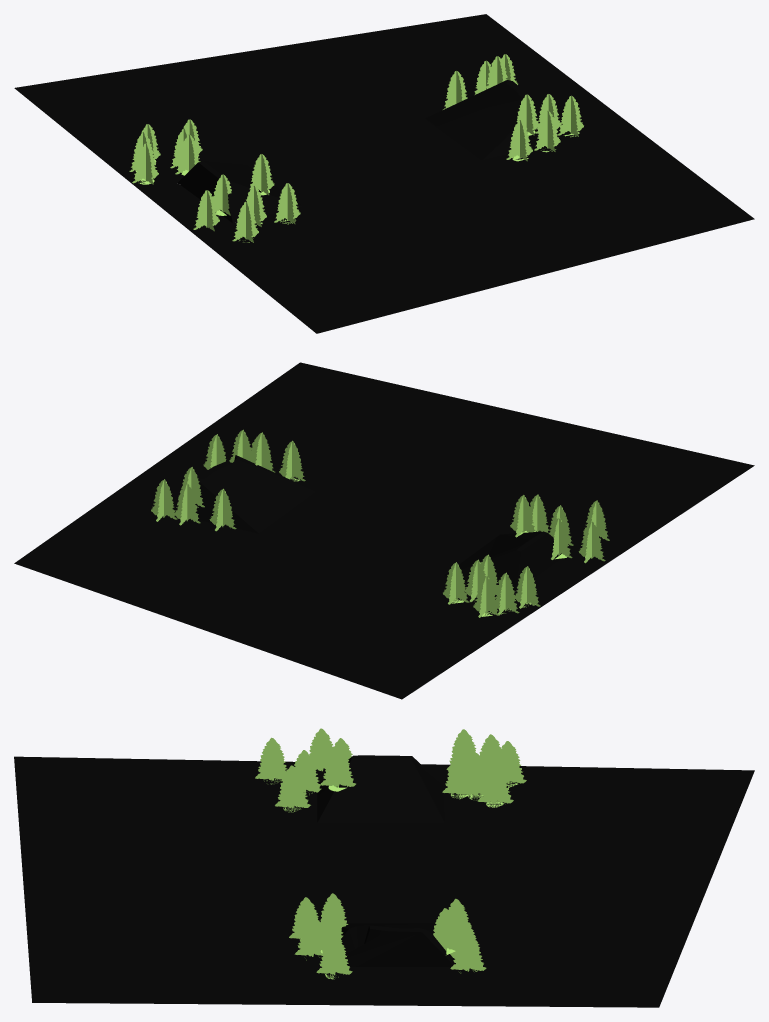
File: bridge4_environment.obj
The picture shows the model from 3 angles, top to bottom: view 1: azimuth 30°, elevation 25°; view 2: azimuth 150°, elevation 25°; view 3: azimuth 270°, elevation 25°; orthographic projection. The views are drawn at different scales.
Visible parts, largest first — view 1: mesh_0, mesh_14, mesh_2, mesh_11, mesh_19, mesh_17, mesh_6, mesh_12, mesh_7, mesh_21, mesh_8, mesh_16 (+1 smaller); view 2: mesh_0, mesh_3, mesh_4, mesh_2, mesh_14, mesh_12, mesh_18, mesh_9, mesh_7, mesh_20, mesh_1, mesh_8 (+1 smaller); view 3: mesh_0, mesh_4, mesh_7, mesh_11, mesh_19, mesh_9, mesh_6, mesh_13, mesh_5, mesh_3, mesh_21, mesh_17 (+5 smaller).
Part boxes in pixels (x1,y1,x2,y2): mesh_0: (14,14,754,333); mesh_14: (506,120,532,161); mesh_2: (132,143,158,184); mesh_11: (274,183,300,224); mesh_19: (558,95,583,137); mesh_17: (534,111,560,152); mesh_6: (232,201,258,242); mesh_12: (193,190,219,231); mesh_7: (248,154,274,195); mesh_21: (175,134,200,175); mesh_8: (213,174,231,215); mesh_16: (515,94,538,135); mesh_0: (14,362,754,699); mesh_3: (473,575,499,617); mesh_4: (443,562,469,604); mesh_2: (514,566,540,608); mesh_14: (279,440,305,481); mesh_12: (578,520,605,563); mesh_18: (209,488,236,531); mesh_9: (151,479,177,521); mesh_7: (510,495,535,537); mesh_20: (175,483,200,525); mesh_1: (495,572,519,614); mesh_8: (550,517,572,559); mesh_0: (14,755,754,1007); mesh_4: (477,761,513,807); mesh_7: (320,744,355,791); mesh_11: (275,765,310,812); mesh_19: (316,932,352,979); mesh_9: (450,928,486,973); mesh_6: (255,737,287,784); mesh_13: (433,908,459,955); mesh_5: (459,753,487,800); mesh_3: (496,741,526,787); mesh_21: (442,752,472,799); mesh_17: (294,914,322,960).
Bounding box in the file's own units: 150 × 17.02 × 187.
